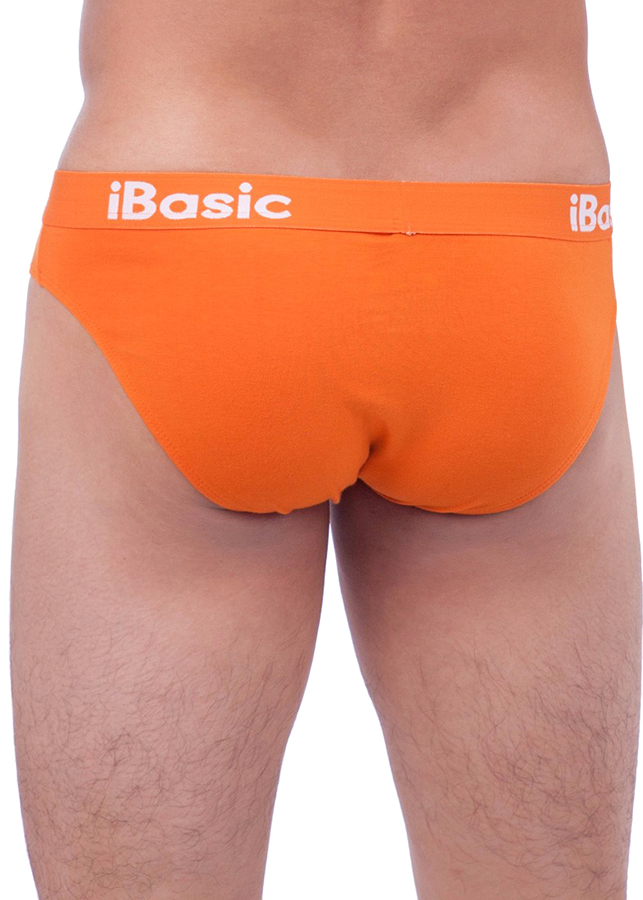iBasic: (100, 170, 298, 233)
